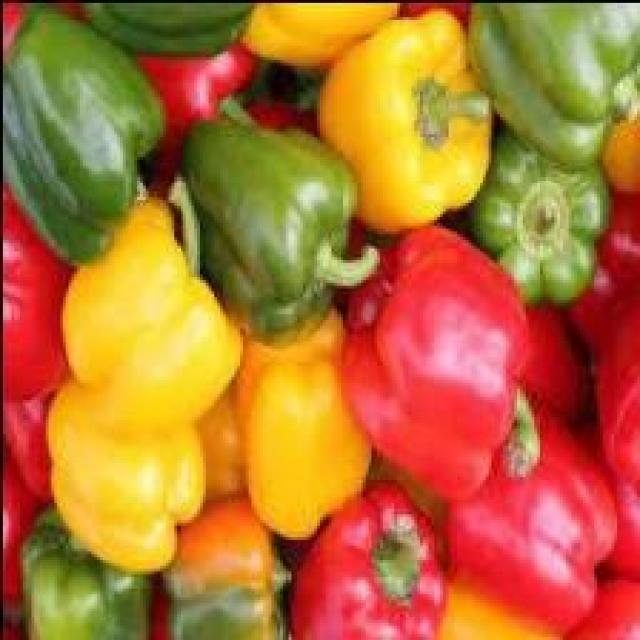Pepper: (457, 6, 640, 311), (177, 97, 380, 351), (340, 226, 531, 463), (3, 9, 166, 269), (317, 9, 494, 237), (60, 211, 223, 394), (237, 329, 374, 543), (46, 397, 209, 574)
